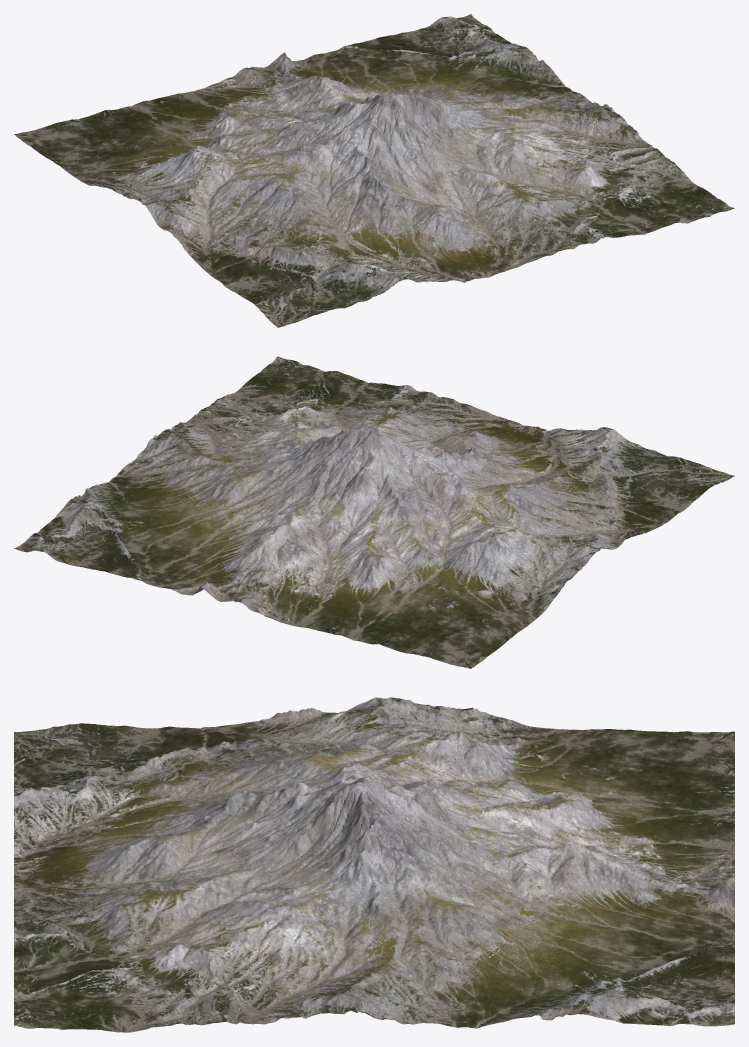
File: hero_mountain.glb
3 views of the same model, one above another, from view 1: azimuth 30°, elevation 25°; view 2: azimuth 150°, elevation 25°; view 3: azimuth 270°, elevation 25° (orthographic). The views are drawn at different scales.
Visible parts, largest first — view 1: Object_2; view 2: Object_2; view 3: Object_2.
Boxes of the visible parts, bbox=[...] form: Object_2: bbox=[14, 14, 734, 327]; Object_2: bbox=[14, 356, 734, 668]; Object_2: bbox=[14, 697, 734, 1032].
Bounding box in the file's own units: 2 × 0.3454 × 2.
1 material, 1 textured.
